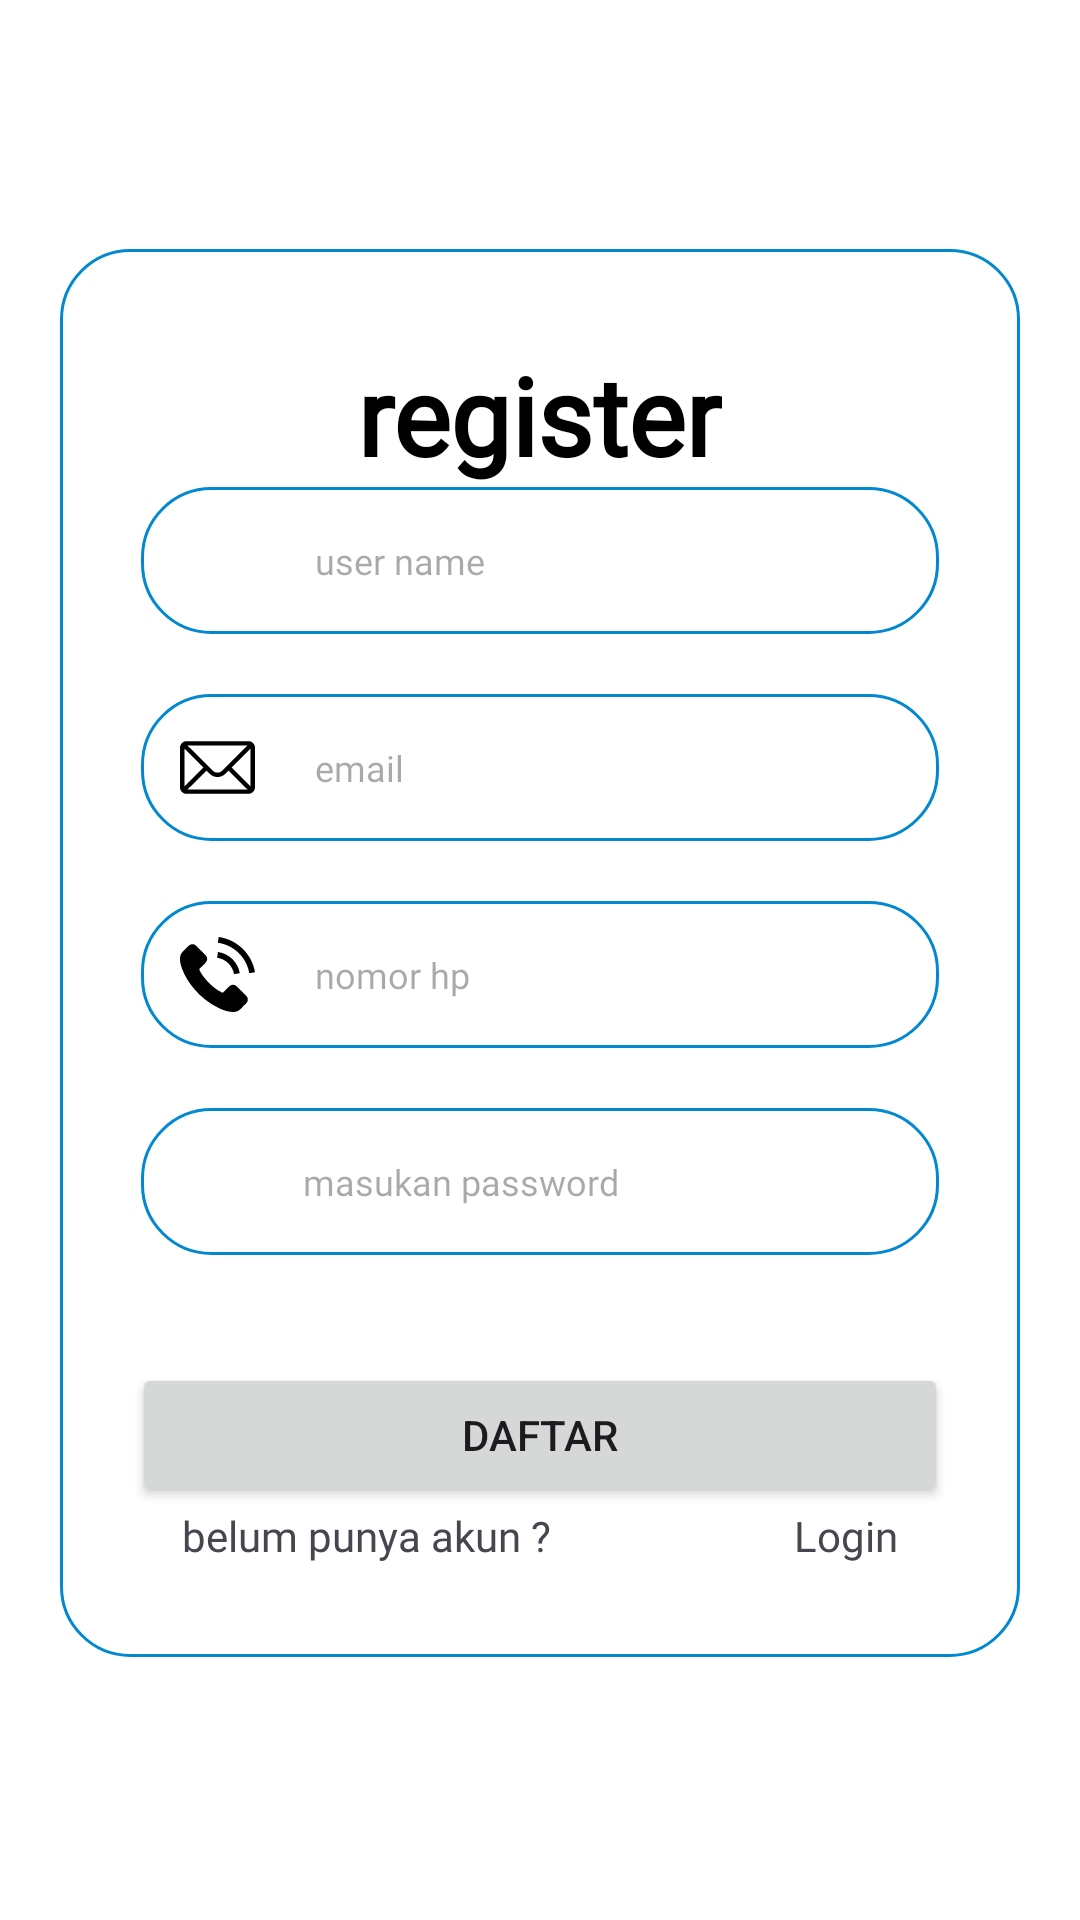

Screen size 1080 × 1920. Icon name, then its center in pixels as [x,y]:
phone: [217,974]
